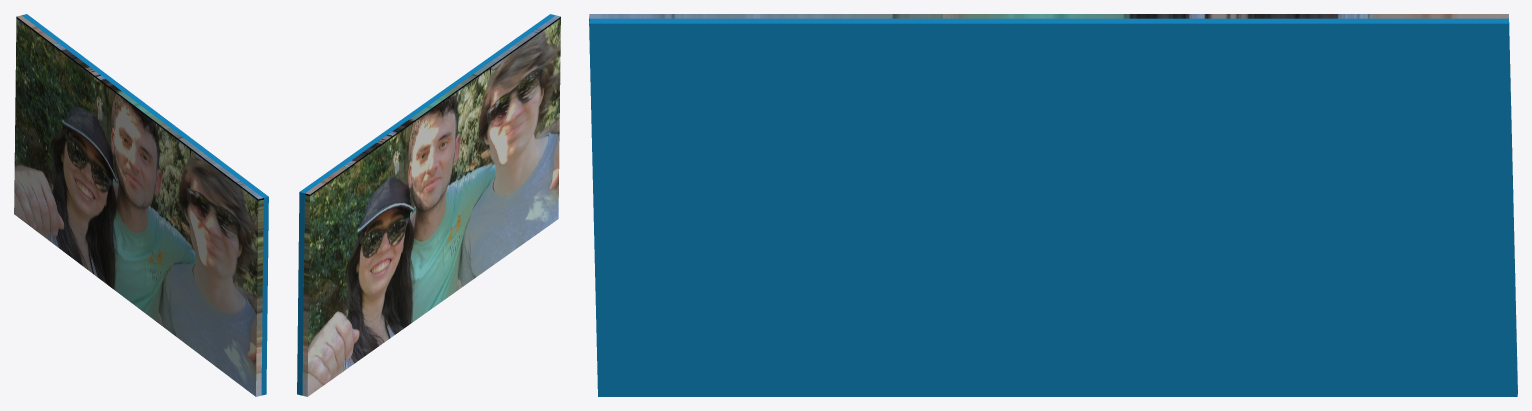
File: vetro.obj
3 views of the same model, side by side, from view 1: azimuth 30°, elevation 25°; view 2: azimuth 150°, elevation 25°; view 3: azimuth 270°, elevation 25° (orthographic). The views are drawn at different scales.
Visible parts, largest first — view 1: Cube, Cube.001; view 2: Cube, Cube.001; view 3: Cube.001, Cube.
Part boxes in pixels (x1,y1,x2,y2): Cube: (14, 15, 263, 396); Cube.001: (22, 14, 268, 395); Cube: (302, 15, 560, 396); Cube.001: (297, 14, 555, 395); Cube.001: (589, 18, 1517, 396); Cube: (589, 14, 1517, 388).
Size of the model in its own units: 0.183 by 2.45 by 5.48.
Materials: 2 (1 with a texture image).
